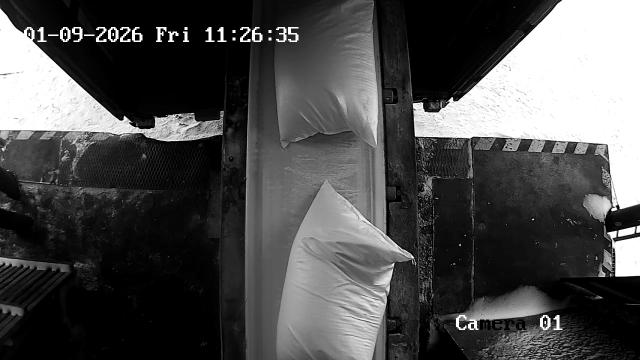bag: (276, 182, 415, 360), (275, 0, 378, 146)
